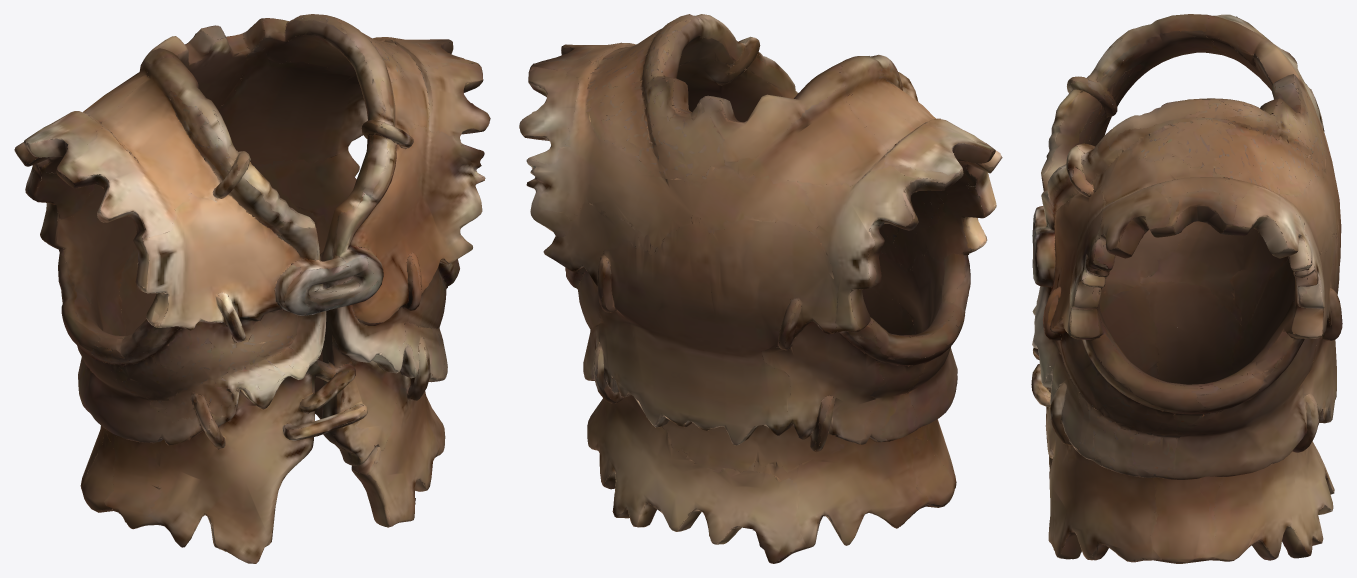
The model's file is couro_bufalo.glb.
3 renders of one model, left to right at view 1: azimuth 30°, elevation 25°; view 2: azimuth 150°, elevation 25°; view 3: azimuth 270°, elevation 25°, orthographic.
Visible parts, largest first — view 1: couro_bufalo; view 2: couro_bufalo; view 3: couro_bufalo.
Boxes of the visible parts, x1,y1,x2,y2 form: couro_bufalo: [14, 14, 490, 563]; couro_bufalo: [519, 14, 1002, 563]; couro_bufalo: [1031, 14, 1342, 563].
Bounding box in the file's own units: 0.2279 × 0.2338 × 0.1424.
1 material, 1 textured.
